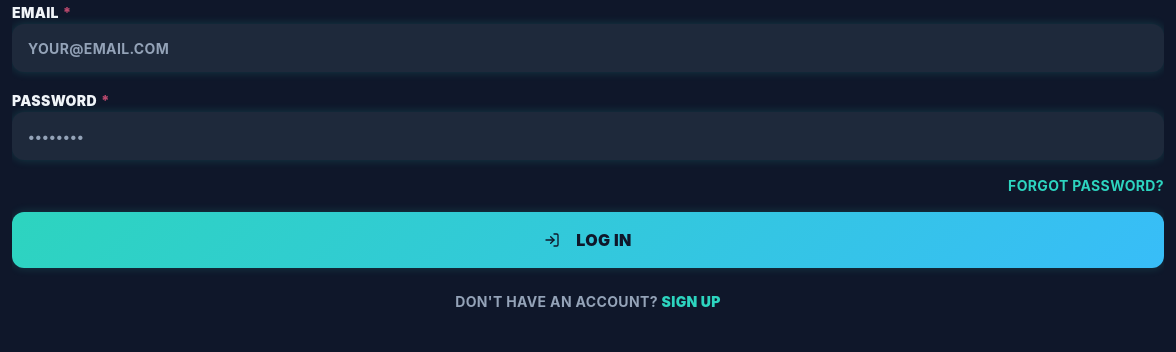
Scenario: AuthFormLogin › should validate email format on submit
Type "invalid-email" into the field labelled "Email*" at (588, 48), box [12,24,1164,72]
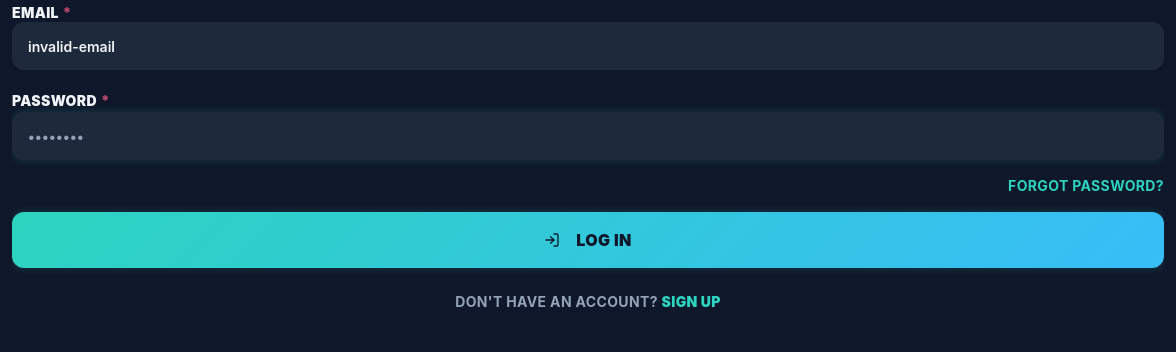
Type "password123" into the password field labelled "Password*" at (588, 136), box [12,112,1164,160]
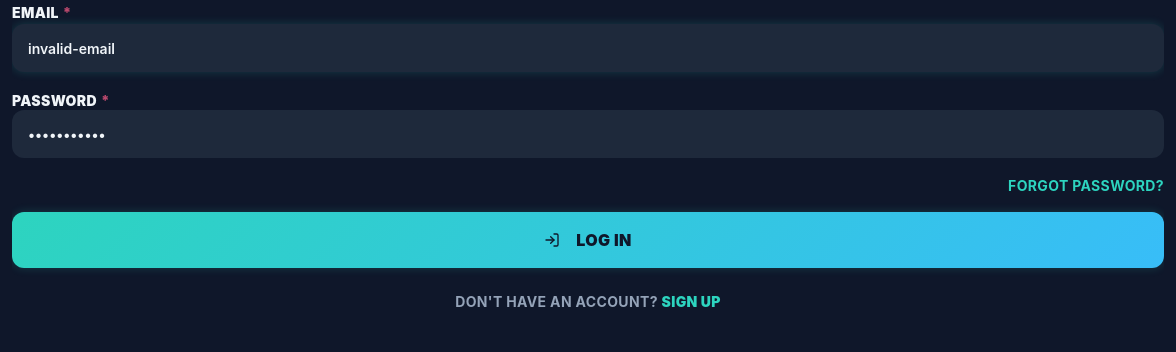
Click the button "Log In" at (588, 240), box [12,212,1164,268]
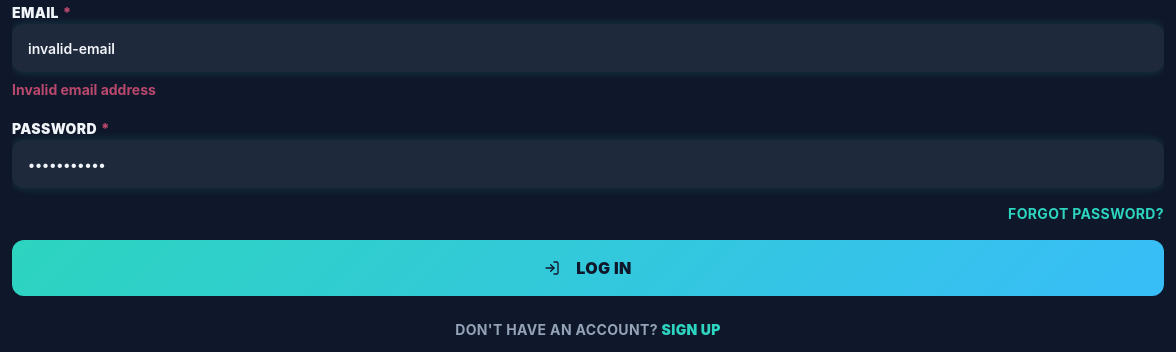
Check: the text "Invalid email address" is shown, box [12,81,156,98]
